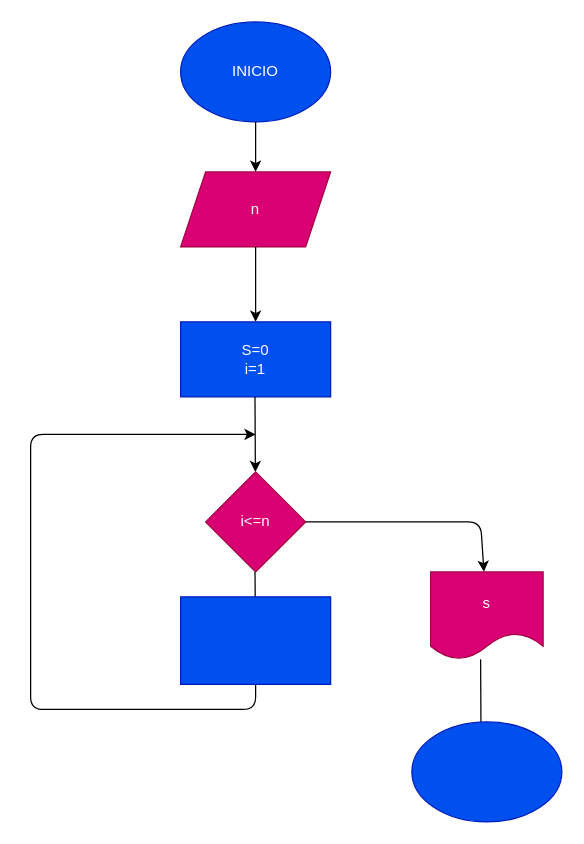
The diagram is 584 pixels wide and 844 high, and some of its shapes have lost their labels. Each missing label, with the centre of its shape:
FIN: the point at 486,771
s = s + i i = i + 1: the point at 255,640
